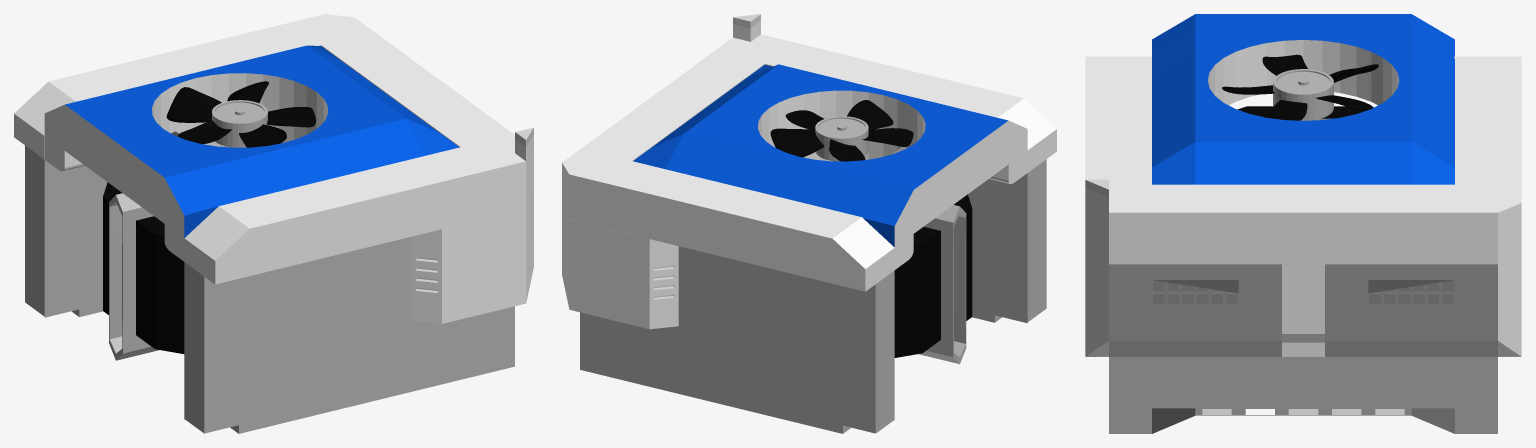
3 renders of one model, left to right at view 1: azimuth 30°, elevation 25°; view 2: azimuth 150°, elevation 25°; view 3: azimuth 270°, elevation 25°, orthographic. The views are drawn at different scales.
Parts seen in each view (by area): view 1: Body, Engine Block, Exaustor, Propeller, Nail; view 2: Body, Engine Block, Exaustor, Propeller, Nail; view 3: Body, Display, Propeller, Nail, Eyes, Engine Block.
Part boxes in pixels (bbox=[...]): Body: bbox=[14, 14, 533, 433]; Engine Block: bbox=[103, 182, 184, 353]; Exaustor: bbox=[109, 193, 159, 360]; Propeller: bbox=[166, 81, 315, 147]; Nail: bbox=[212, 100, 267, 147]; Body: bbox=[562, 14, 1056, 433]; Engine Block: bbox=[894, 194, 972, 357]; Exaustor: bbox=[918, 205, 966, 364]; Propeller: bbox=[770, 100, 913, 161]; Nail: bbox=[815, 116, 868, 161]; Body: bbox=[1085, 14, 1521, 433]; Display: bbox=[1109, 264, 1497, 356]; Propeller: bbox=[1222, 54, 1378, 120]; Nail: bbox=[1273, 69, 1333, 120]; Eyes: bbox=[1153, 280, 1453, 303]; Engine Block: bbox=[1237, 106, 1363, 118].
Size of the model in its own units: 212 by 148 by 224.
